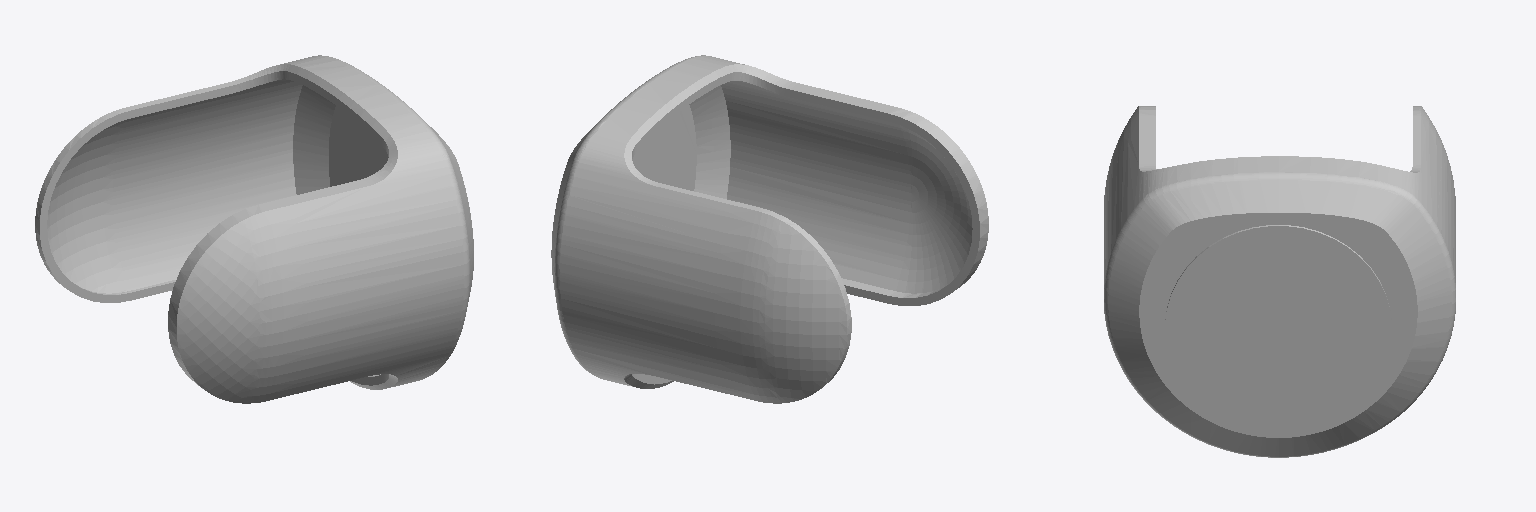
The model's file is right_wrist_yaw_link_collisions.obj.
The picture shows the model from 3 angles: view 1: azimuth 30°, elevation 25°; view 2: azimuth 150°, elevation 25°; view 3: azimuth 270°, elevation 25°; orthographic projection.
Size of the model in its own units: 0.0595 by 0.0539 by 0.0605.